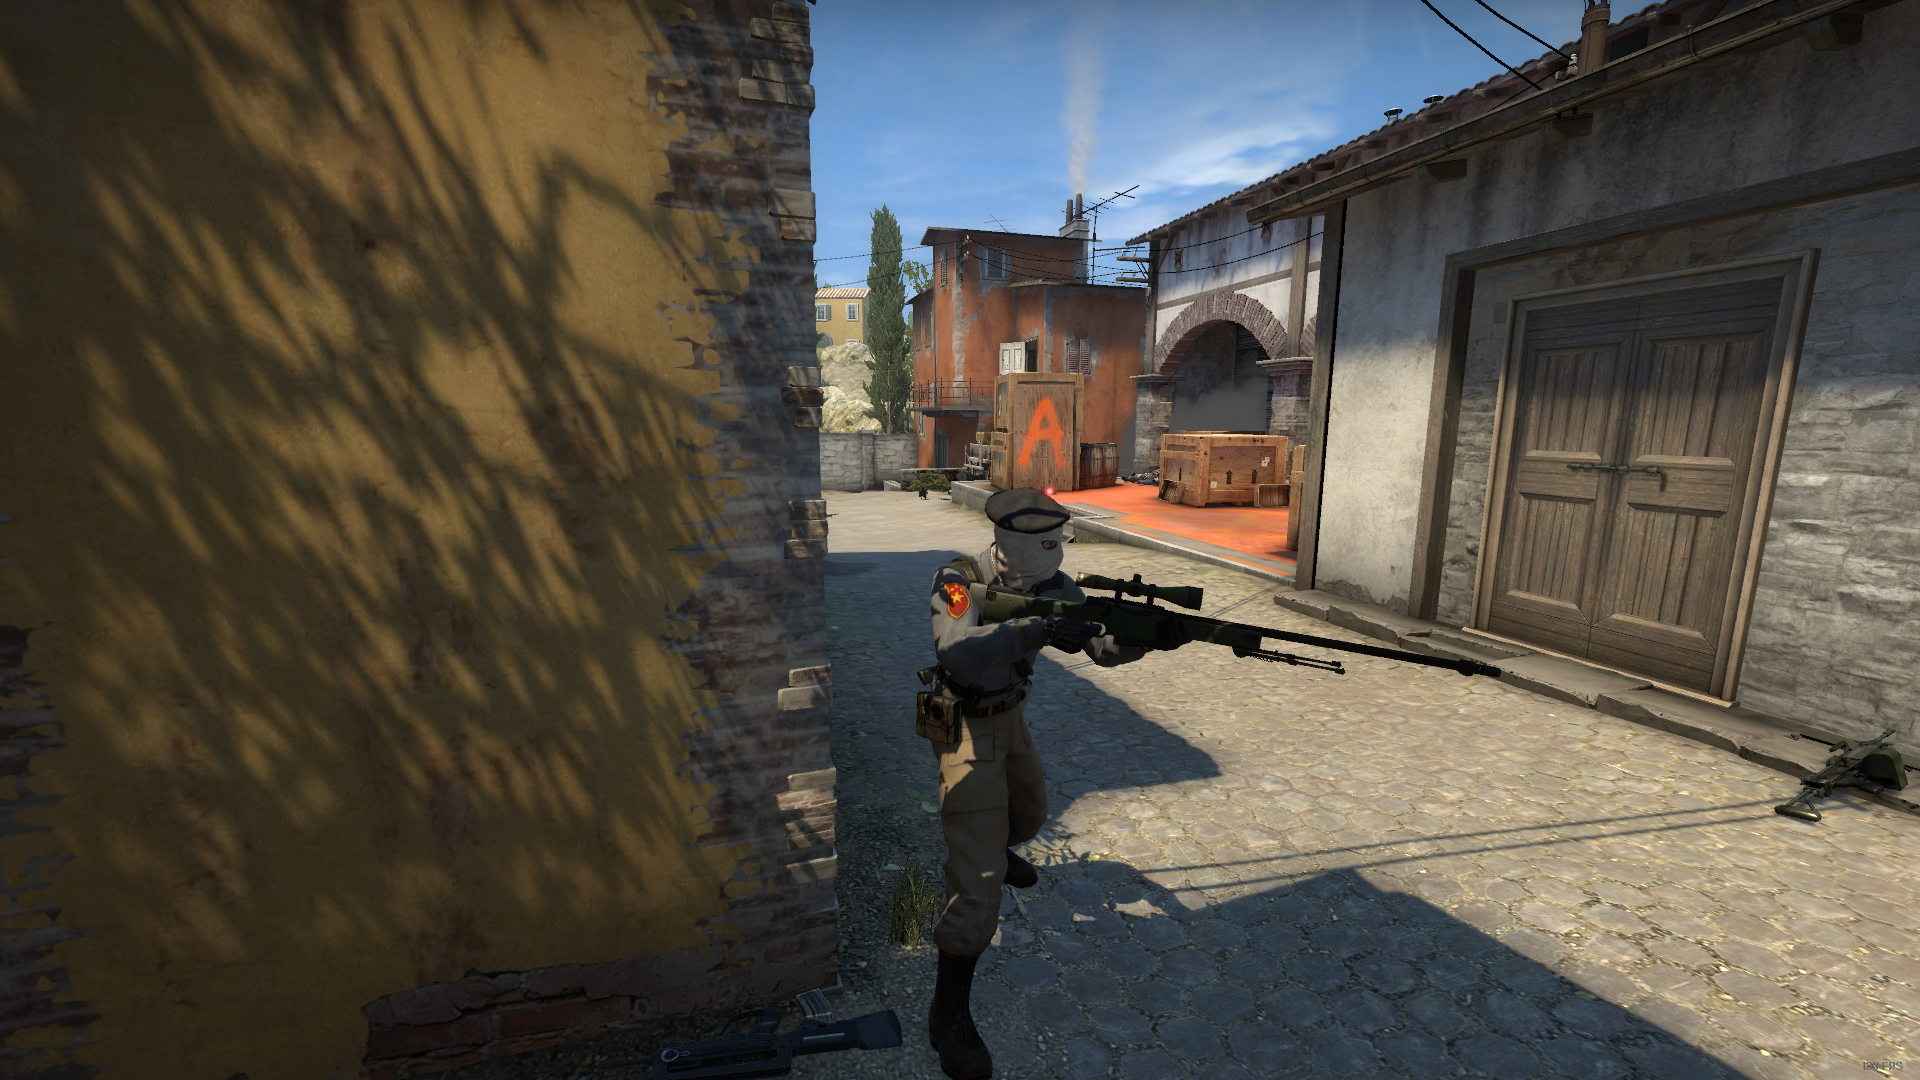t: (874, 489, 1197, 1076)
